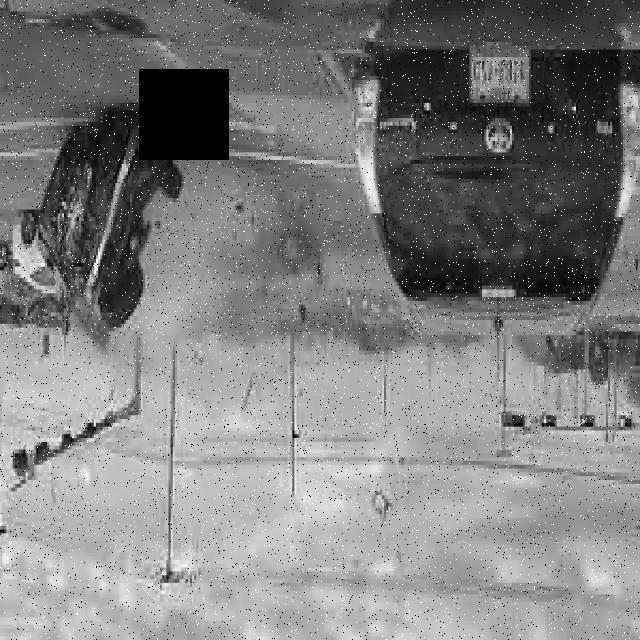severe: (31, 109, 189, 348)
